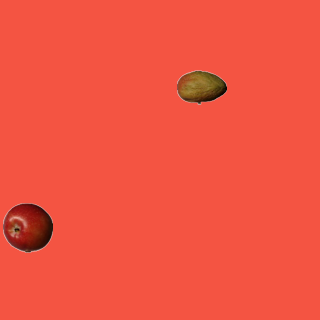Apple Braeburn: (2, 202, 52, 252)
Papaya: (176, 62, 226, 112)
